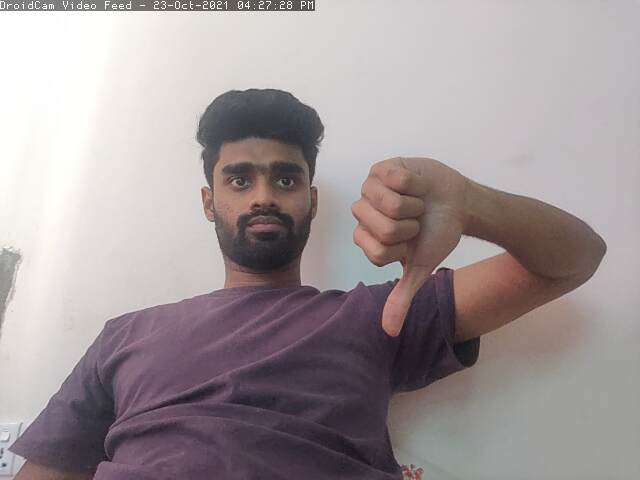ThumbsDown: (353, 151, 465, 338)
